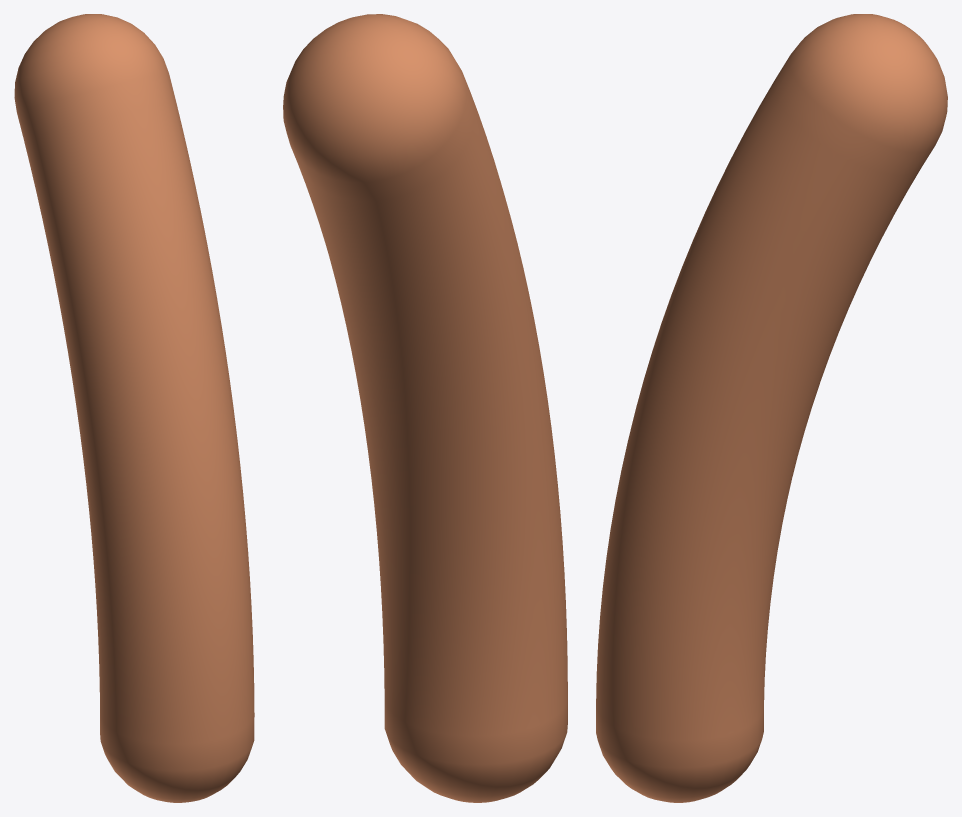
Rendered from sasuage.fbx.
3 renders of one model, left to right at view 1: azimuth 30°, elevation 25°; view 2: azimuth 150°, elevation 25°; view 3: azimuth 270°, elevation 25°, orthographic. The views are drawn at different scales.
Parts seen in each view (by area): view 1: Sphere; view 2: Sphere; view 3: Sphere.
Boxes of the visible parts, left/top/right/bottom form: Sphere: left=14, top=14, right=254, bottom=802; Sphere: left=283, top=14, right=567, bottom=802; Sphere: left=596, top=14, right=947, bottom=802.
Size of the model in its own units: 86.83 by 433 by 179.
